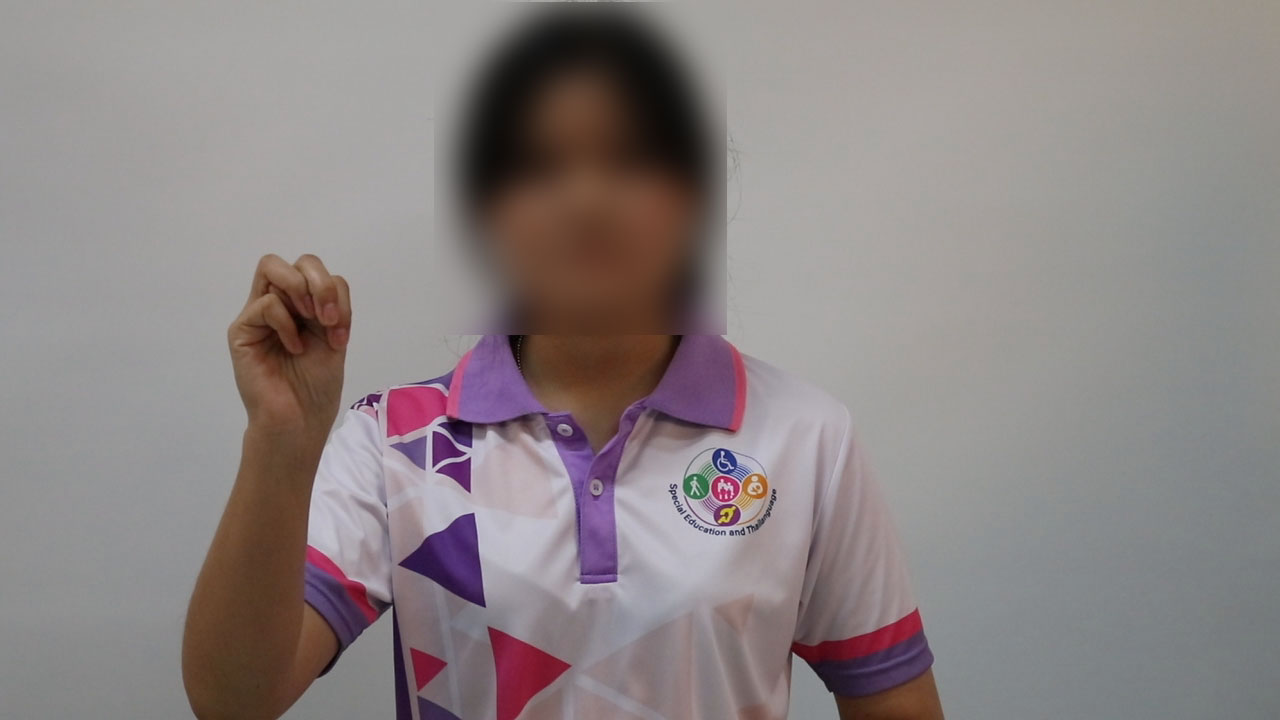mor: (223, 226, 366, 451)
